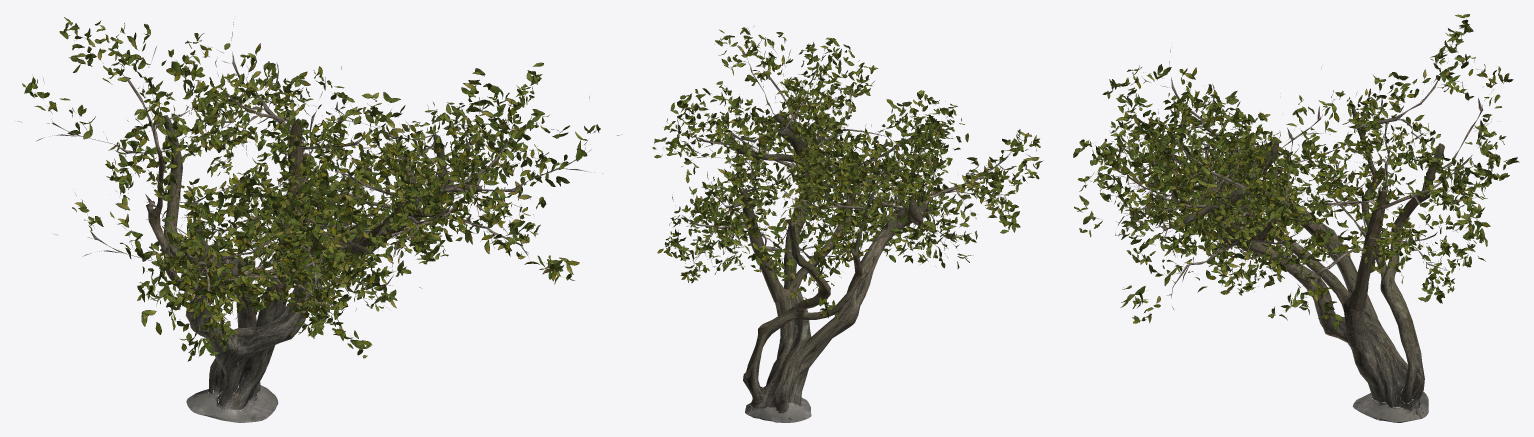
The model's file is tree.gltf.
3 views of the same model, side by side, from view 1: azimuth 30°, elevation 25°; view 2: azimuth 150°, elevation 25°; view 3: azimuth 270°, elevation 25° (orthographic). The views are drawn at different scales.
Visible parts, largest first — view 1: island_tree_02_LOD0; view 2: island_tree_02_LOD0; view 3: island_tree_02_LOD0.
Boxes of the visible parts, box(x1,y1,x2,y2) form: island_tree_02_LOD0: box(17, 17, 622, 422); island_tree_02_LOD0: box(652, 25, 1043, 422); island_tree_02_LOD0: box(1073, 14, 1519, 422).
Size of the model in its own units: 4.12 by 3.4 by 4.08.
Materials: 3 (3 with a texture image).
